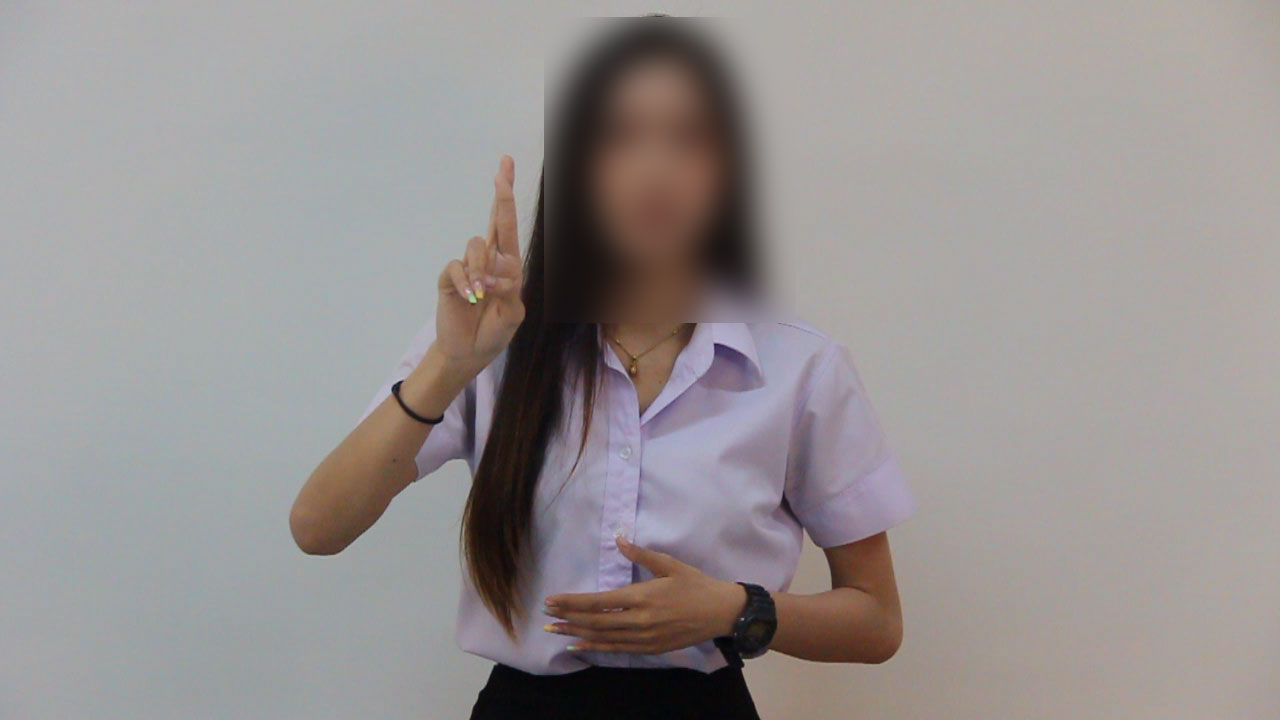rao: (380, 147, 531, 388)
